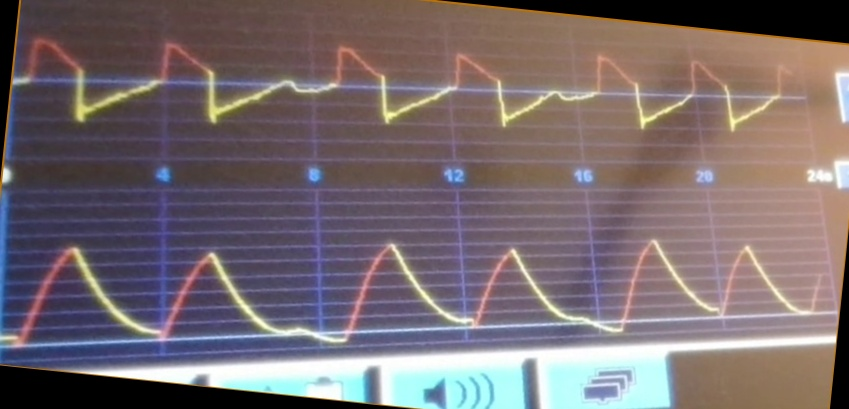Ineffective_effort Flow: (17, 29, 790, 135)
Ineffective_effort Volume: (5, 221, 829, 344)
